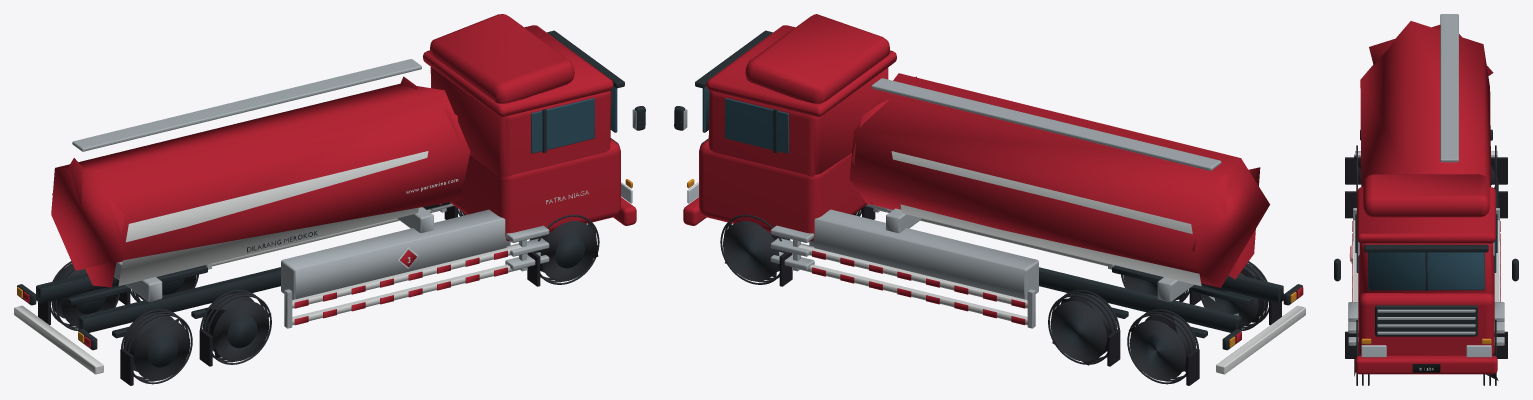
File: rigid.glb
3 renders of one model, left to right at view 1: azimuth 30°, elevation 25°; view 2: azimuth 150°, elevation 25°; view 3: azimuth 270°, elevation 25°, orthographic. The views are drawn at different scales.
Visible parts, largest first — view 1: Main chassis; view 2: Main chassis; view 3: Main chassis.
Boxes of the visible parts, left/top/right/bottom form: Main chassis: left=14, top=14, right=645, bottom=385; Main chassis: left=674, top=14, right=1305, bottom=385; Main chassis: left=1334, top=14, right=1518, bottom=385.
Bounding box in the file's own units: 10.07 × 3.82 × 3.36.
